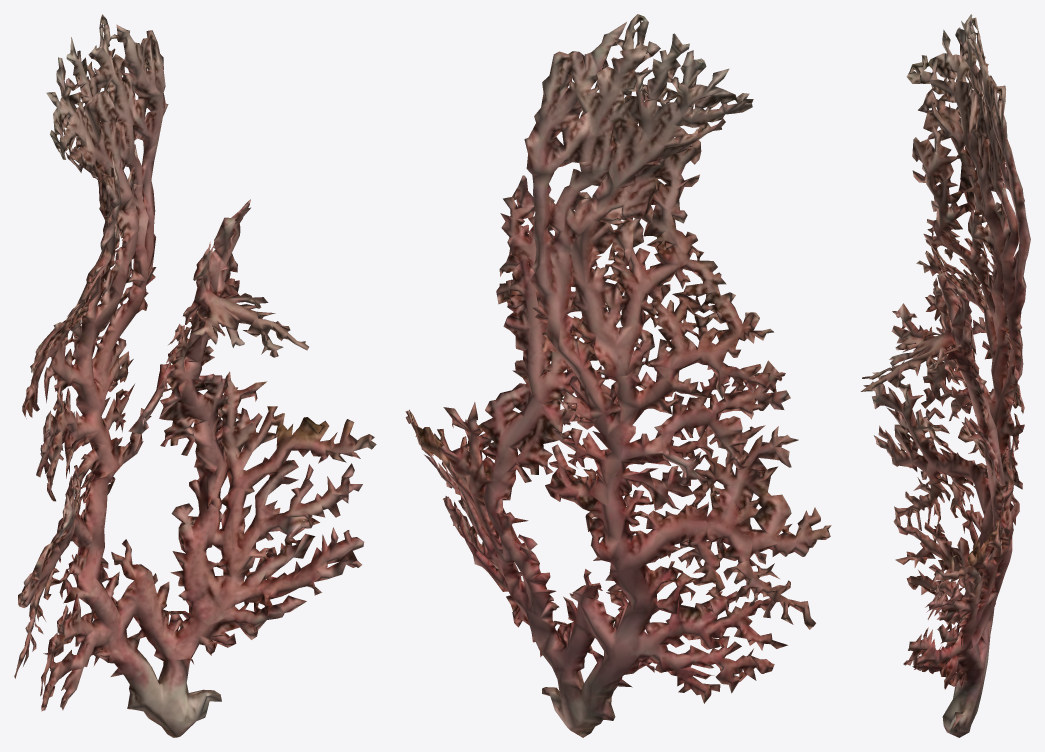
File: coral-stylaster.glb
3 renders of one model, left to right at view 1: azimuth 30°, elevation 25°; view 2: azimuth 150°, elevation 25°; view 3: azimuth 270°, elevation 25°, orthographic. The views are drawn at different scales.
Visible parts, largest first — view 1: Object_4; view 2: Object_4; view 3: Object_4.
Part boxes in pixels (left/top/right/bottom): Object_4: left=14, top=14, right=376, bottom=737; Object_4: left=405, top=14, right=831, bottom=737; Object_4: left=860, top=14, right=1030, bottom=737.
Size of the model in its own units: 0.0944 by 0.1702 by 0.0381.
Materials: 1 (1 with a texture image).
